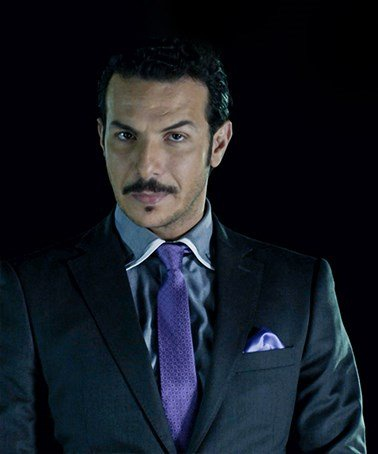bad: (81, 96, 210, 225)
